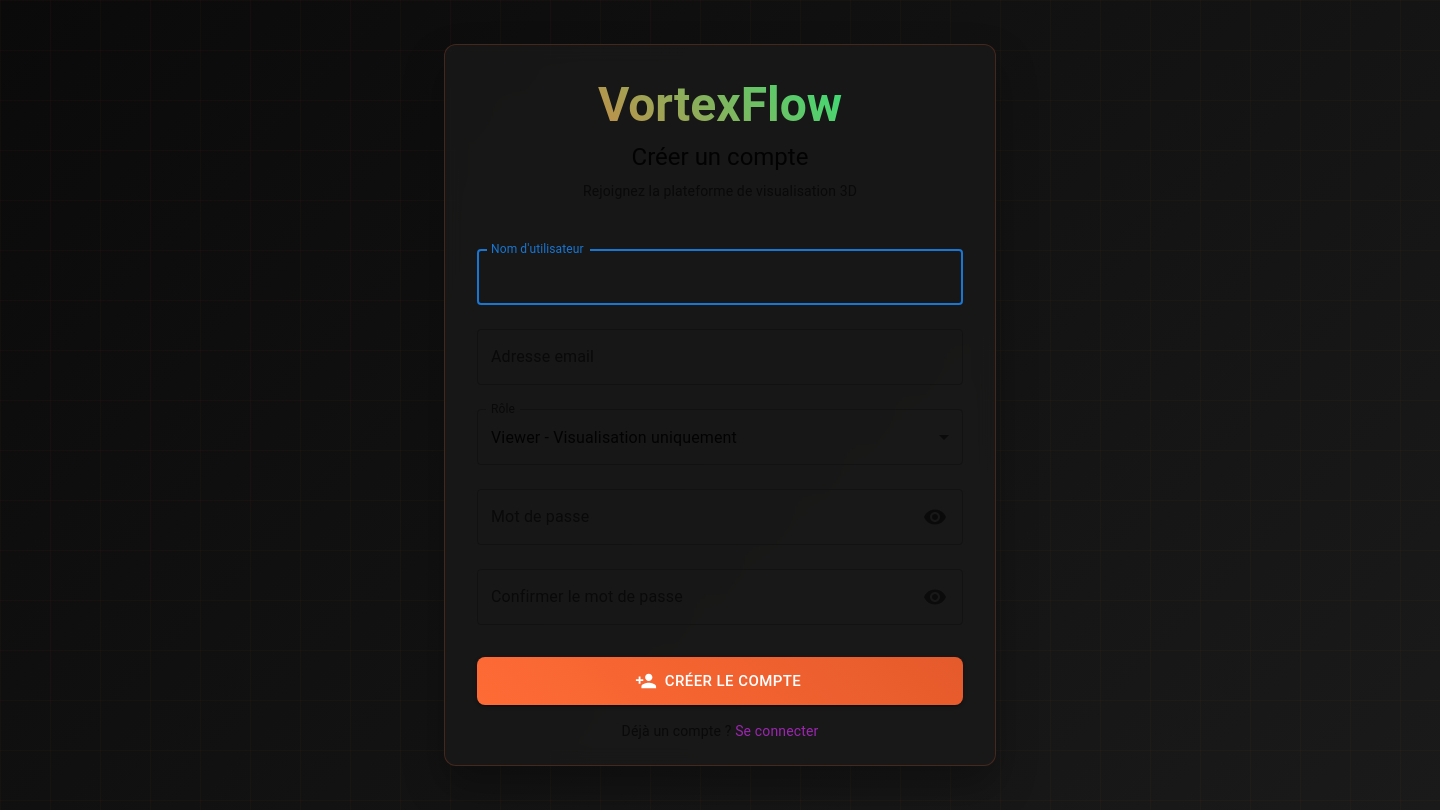
it: RegisterPage — validation › typing clears the field-specific error
Click the button "Créer le compte" at coordinates (720, 681), box [477,657,963,705]
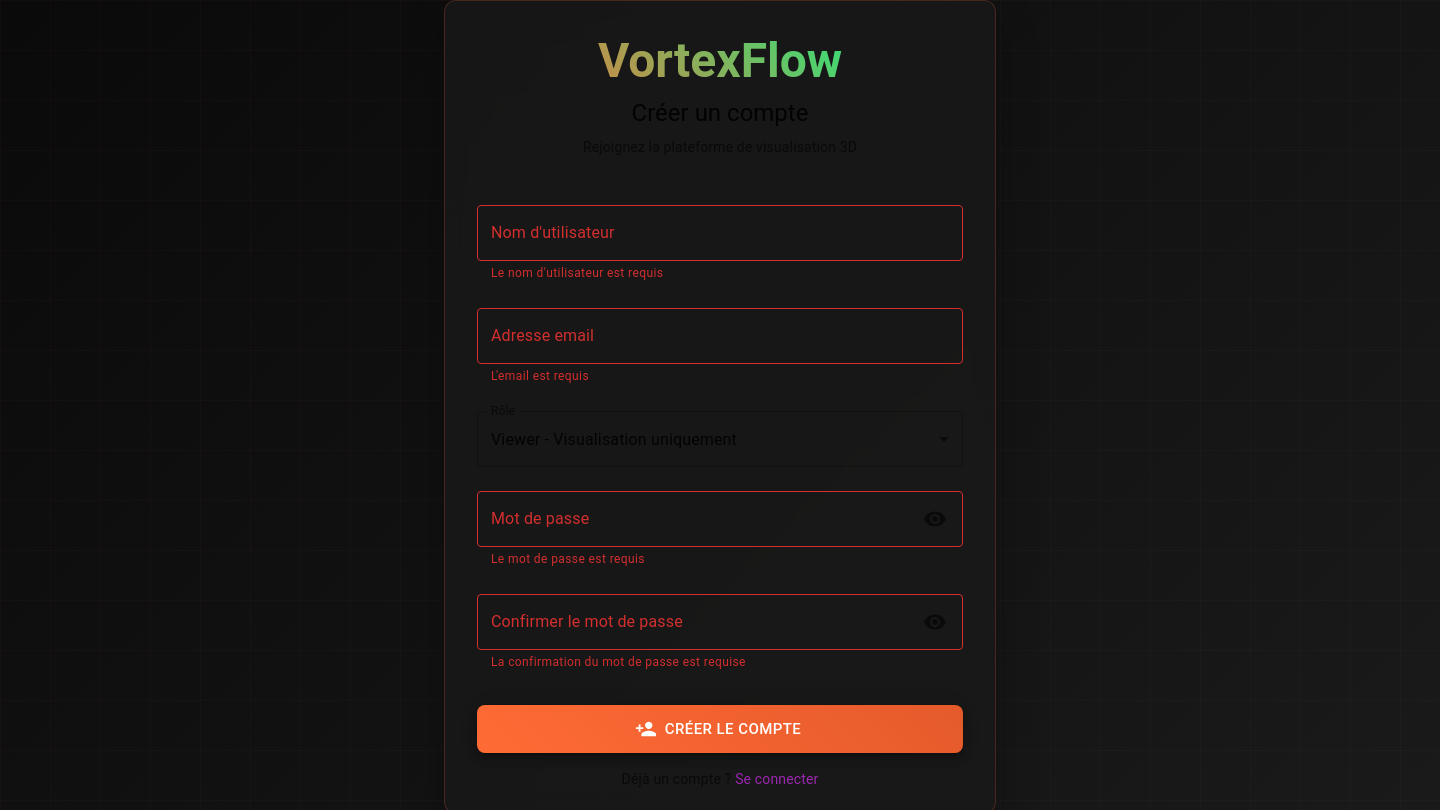
Expected: the text "L'email est requis" is shown, [491,369,589,383]
Type "a@b.com" into the field labelled "Adresse email" at coordinates (720, 336), box [477,308,963,364]
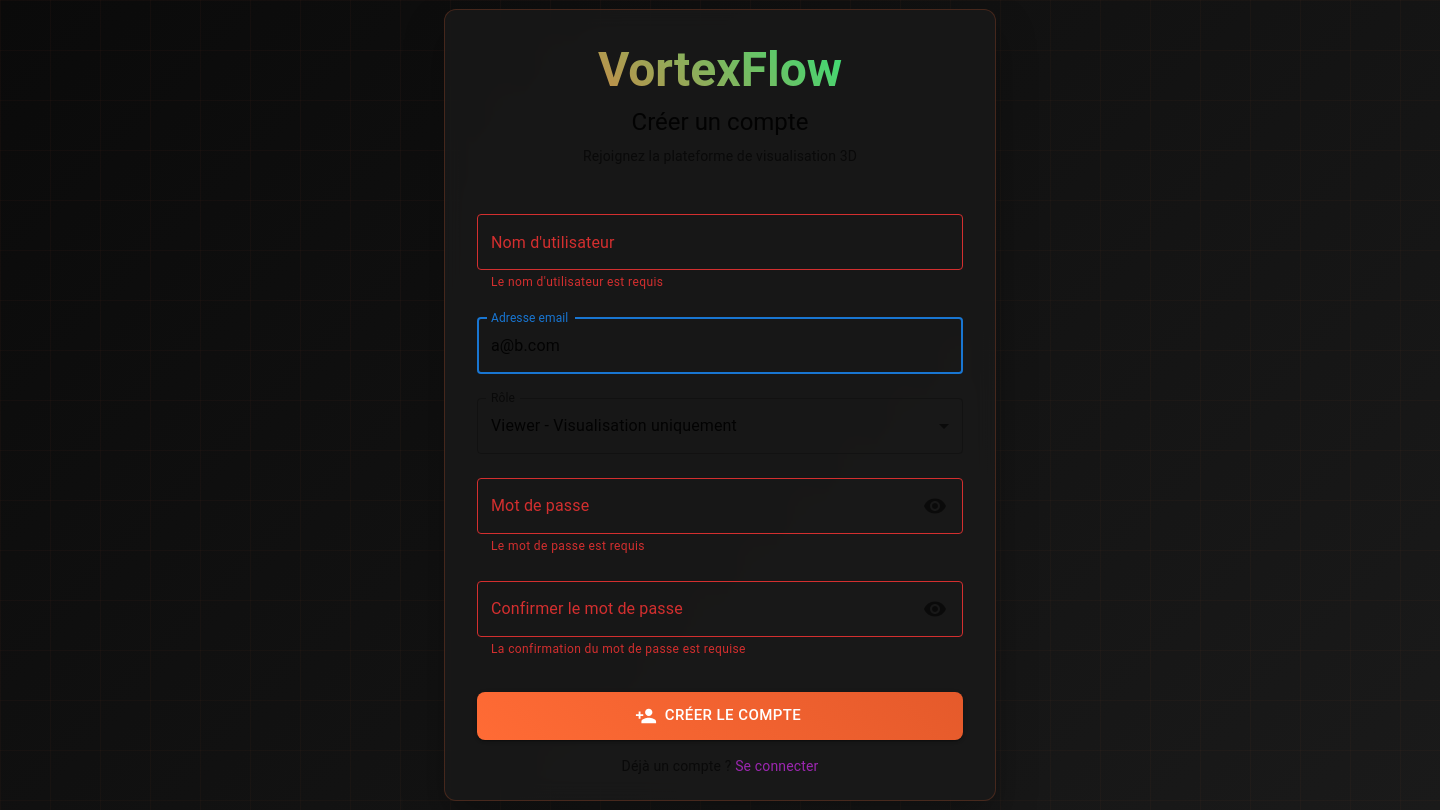
Expected: the text "L'email est requis" is gone
